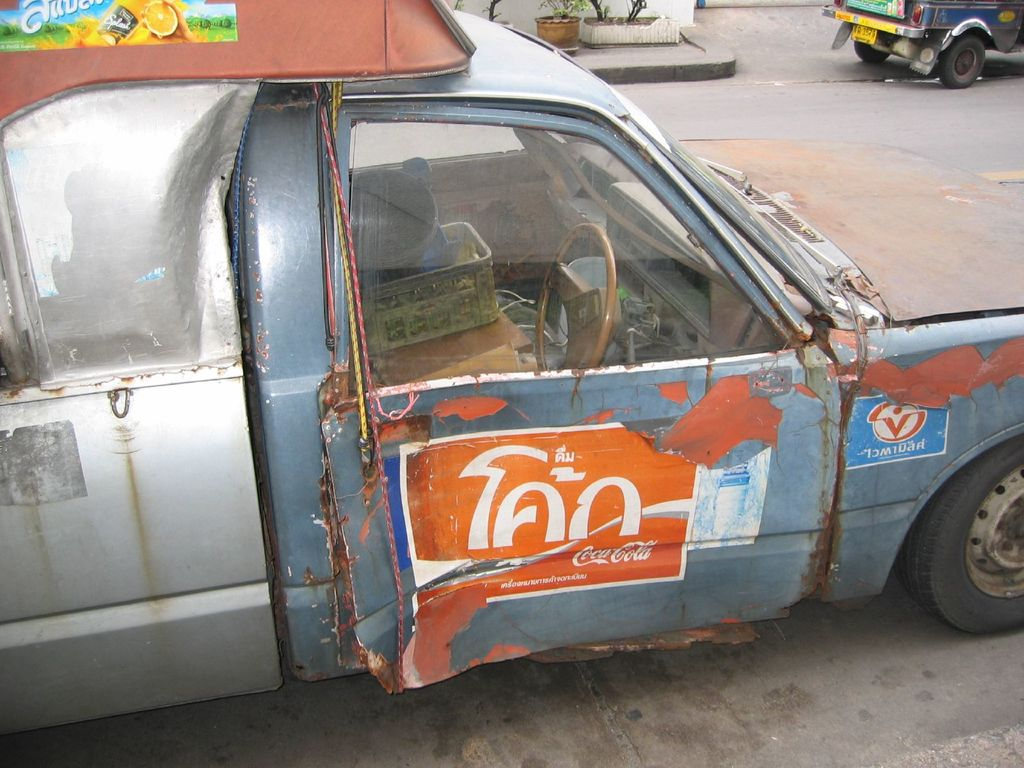cars: (0, 1, 1023, 733), (818, 0, 1018, 87)
